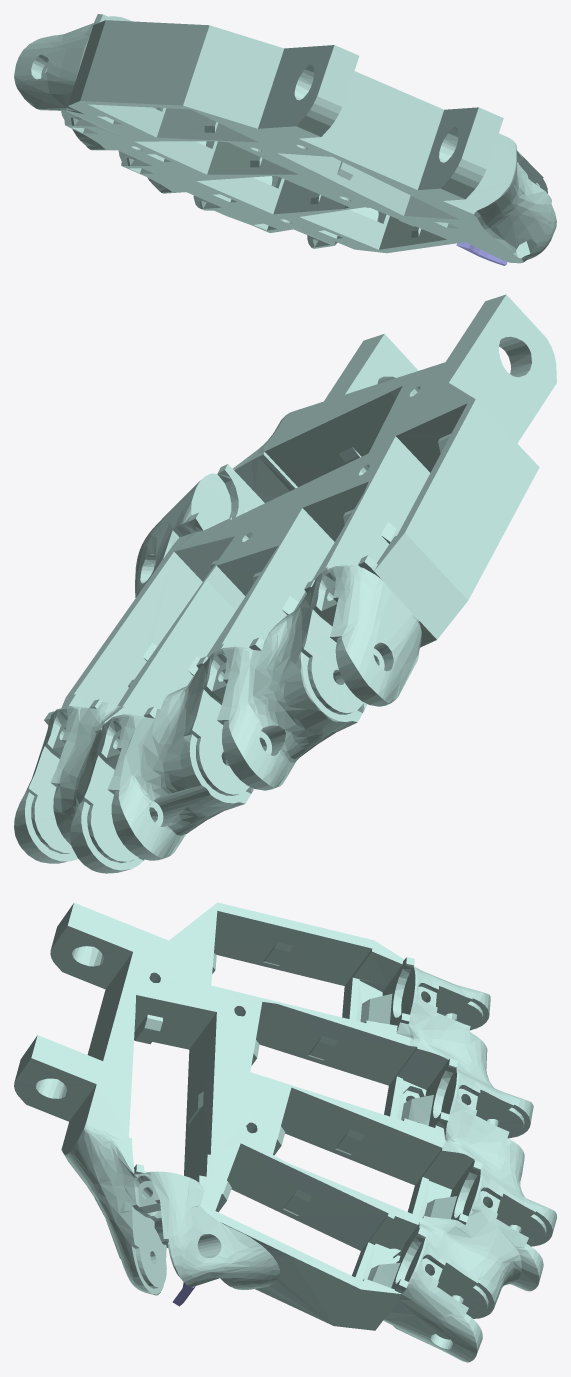
File: left_wrist_z_link_visual_3.obj.balanced.glb
The picture shows the model from 3 angles, top to bottom: view 1: azimuth 30°, elevation 25°; view 2: azimuth 150°, elevation 25°; view 3: azimuth 270°, elevation 25°; orthographic projection. The views are drawn at different scales.
Bounding box in the file's own units: 0.9963 × 0.9884 × 1.31.
